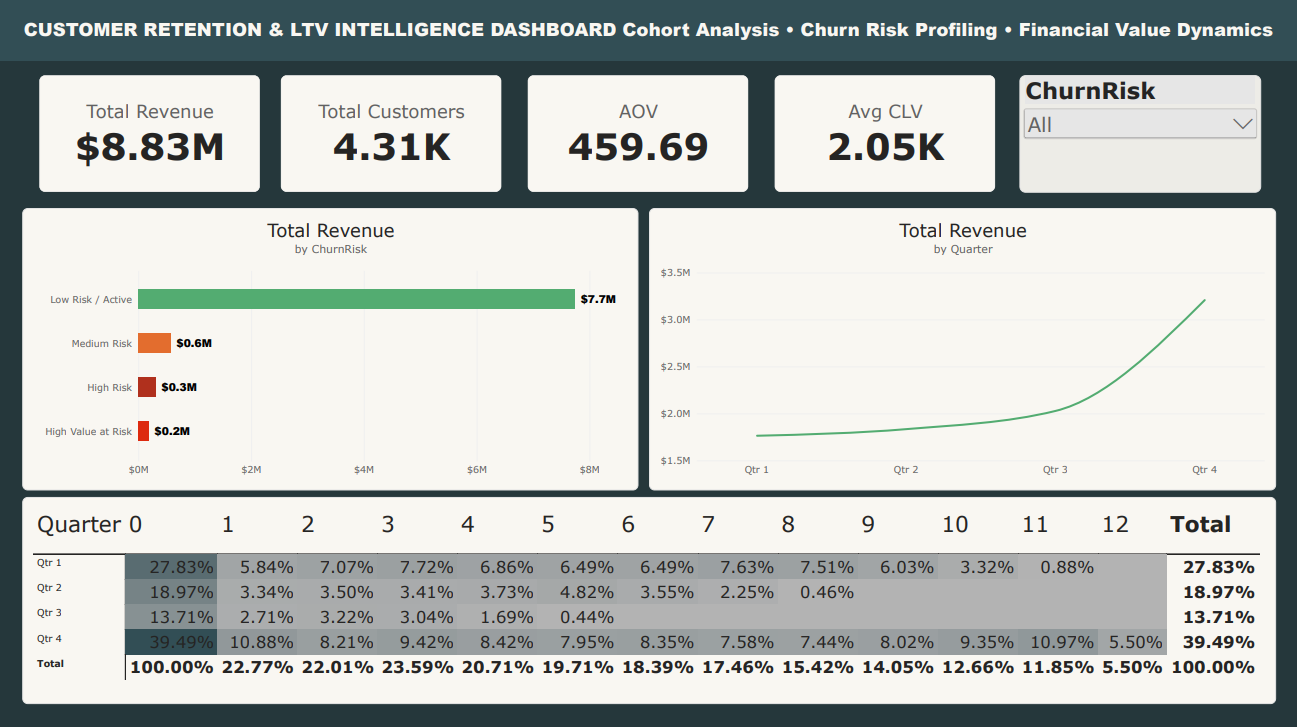

The dashboard page shown, as its layout file describes it:
{"tool":"powerbi","page":{"name":"CUSTOMER RETENTION & LTV INTELLIGENCE DASHBOARD","canvas":[1920,1080],"ordinal":0},"visuals":[{"type":"cardVisual","fields":{"Data":["online_retail_clean.Total Revenue"]},"box":[61.7,115.3,325.2,172.9],"z":0},{"type":"cardVisual","fields":{"Data":["customer_rfm_scores.Total Customers"]},"box":[417.8,115.3,325.2,172.9],"z":1000},{"type":"cardVisual","fields":{"Data":["online_retail_clean.AOV"]},"box":[782.2,115.3,325.2,172.9],"z":2000},{"type":"cardVisual","fields":{"Data":["online_retail_clean.Avg CLV"]},"box":[1146.5,115.3,325.2,172.9],"z":3000},{"type":"slicer","fields":{"Values":["customer_rfm_scores.ChurnRisk"]},"box":[1506.7,115.3,356.1,172.9],"z":4000},{"type":"clusteredBarChart","fields":{"Category":["customer_rfm_scores.ChurnRisk"],"Y":["online_retail_clean.Total Revenue"]},"box":[37,310.8,907.7,415.8],"z":5000},{"type":"pivotTable","fields":{"Columns":["online_retail_clean.Month Index"],"Rows":["online_retail_clean.Cohort Month.Variation.Date Hierarchy.Year","online_retail_clean.Cohort Month.Variation.Date Hierarchy.Quarter","online_retail_clean.Cohort Month.Variation.Date Hierarchy.Month","online_retail_clean.Cohort Month.Variation.Date Hierarchy.Day"],"Values":["online_retail_clean.Retention Rate"]},"box":[37,736.9,1848.4,304.6],"z":6000},{"type":"lineChart","fields":{"Category":["online_retail_clean.InvoiceDateOnly.Variation.Date Hierarchy.Quarter","online_retail_clean.InvoiceDateOnly.Variation.Date Hierarchy.Month"],"Y":["online_retail_clean.Total Revenue"]},"box":[961.2,310.8,924.2,415.8],"z":7000},{"type":"shape","box":[0,0,1920.4,92.6],"z":8000}]}

Visuals, with their boxes in screenshot pixels (x1, y1, x2, y2), scaled from the page's 1920x1080 canvas onto the 1297x727 screenshot:
cardVisual - online_retail_clean.Total Revenue: left=42, top=78, right=261, bottom=194
cardVisual - customer_rfm_scores.Total Customers: left=282, top=78, right=502, bottom=194
cardVisual - online_retail_clean.AOV: left=528, top=78, right=748, bottom=194
cardVisual - online_retail_clean.Avg CLV: left=774, top=78, right=994, bottom=194
slicer - customer_rfm_scores.ChurnRisk: left=1018, top=78, right=1258, bottom=194
clusteredBarChart - customer_rfm_scores.ChurnRisk x online_retail_clean.Total Revenue: left=25, top=209, right=638, bottom=489
pivotTable - online_retail_clean.Month Index x online_retail_clean.Cohort Month.Variation.Date Hierarchy.Year: left=25, top=496, right=1274, bottom=701
lineChart - online_retail_clean.InvoiceDateOnly.Variation.Date Hierarchy.Quarter x online_retail_clean.InvoiceDateOnly.Variation.Date Hierarchy.Month: left=649, top=209, right=1274, bottom=489
shape: left=0, top=0, right=1296, bottom=62
